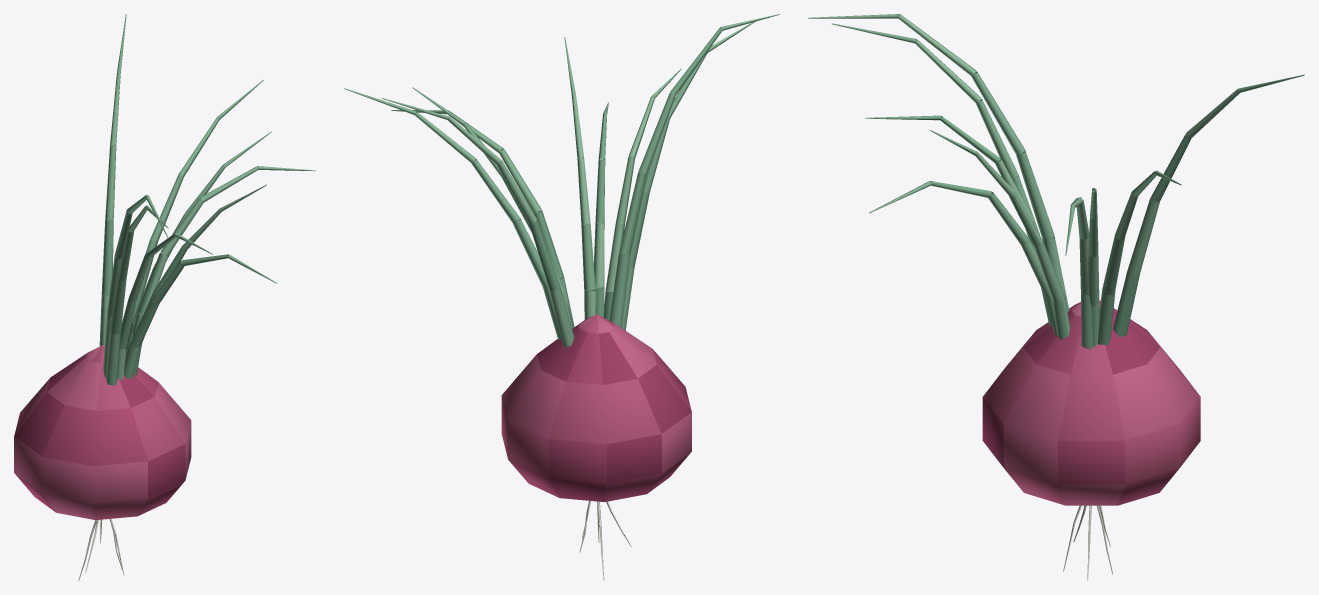
Rendered from oignon_rouge_mur.glb.
The picture shows the model from 3 angles, left to right: view 1: azimuth 30°, elevation 25°; view 2: azimuth 150°, elevation 25°; view 3: azimuth 270°, elevation 25°; orthographic projection. The views are drawn at different scales.
Visible parts, largest first — view 1: Oignon_Bulbe, Oignon_Feuilles, Oignon_Racines; view 2: Oignon_Bulbe, Oignon_Feuilles; view 3: Oignon_Bulbe, Oignon_Feuilles, Oignon_Racines.
Boxes of the visible parts, left/top/right/bottom form: Oignon_Bulbe: left=14, top=345, right=191, bottom=520; Oignon_Feuilles: left=99, top=14, right=315, bottom=385; Oignon_Racines: left=78, top=518, right=124, bottom=580; Oignon_Bulbe: left=501, top=314, right=691, bottom=501; Oignon_Feuilles: left=344, top=14, right=779, bottom=347; Oignon_Bulbe: left=982, top=300, right=1200, bottom=505; Oignon_Feuilles: left=808, top=14, right=1304, bottom=349; Oignon_Racines: left=1063, top=505, right=1112, bottom=580.
Bounding box in the file's own units: 0.3027 × 0.4991 × 0.3909.
